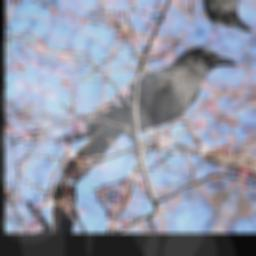Crow: (41, 12, 241, 214)
